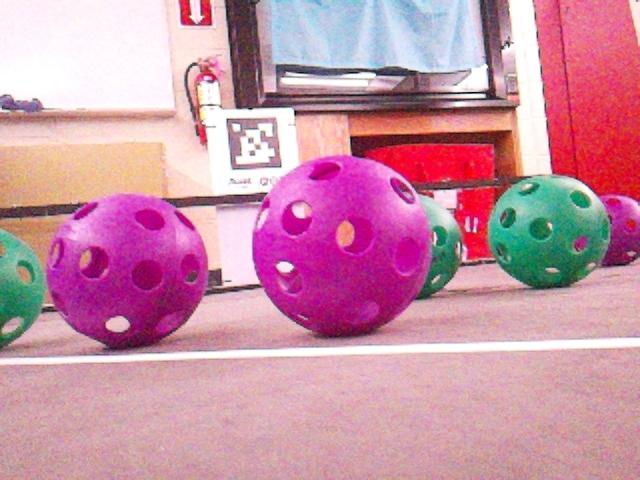Green: (485, 174, 611, 288), (0, 228, 45, 349), (412, 196, 464, 299)
Purple: (251, 155, 432, 334), (46, 193, 207, 348), (596, 194, 640, 266)
